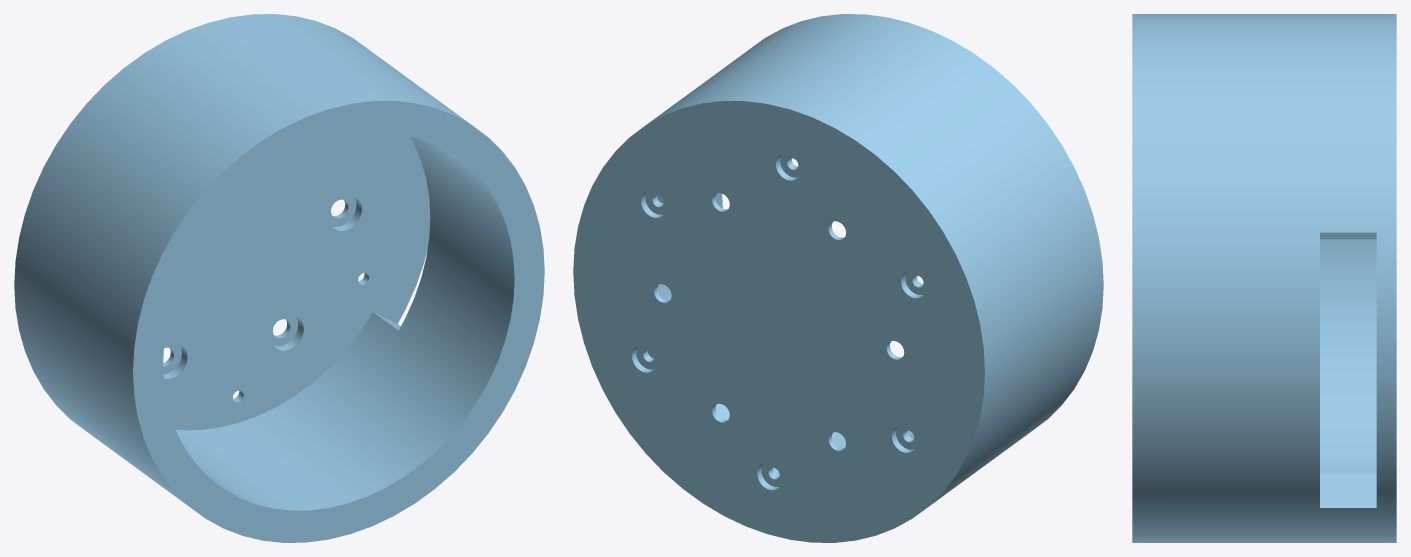
3 renders of one model, left to right at view 1: azimuth 30°, elevation 25°; view 2: azimuth 150°, elevation 25°; view 3: azimuth 270°, elevation 25°, orthographic. The views are drawn at different scales.
Visible parts, largest first — view 1: mesh4069, mesh4065, mesh4070, mesh4071; view 2: mesh4031, mesh4069, mesh4070; view 3: mesh4069, mesh4070, mesh4067, mesh4066.
Boxes of the visible parts, x1,y1,x2,y2 form: mesh4069: (14,14,471,513); mesh4065: (164,133,430,430); mesh4070: (176,136,514,510); mesh4071: (133,101,544,542); mesh4031: (573,101,984,542); mesh4069: (646,14,1103,513); mesh4070: (657,193,914,475); mesh4069: (1132,14,1396,542); mesh4070: (1320,239,1376,474); mesh4067: (1320,474,1376,507); mesh4066: (1320,232,1376,239).
Bounding box in the file's own units: 0.0931 × 0.093 × 0.0465.
